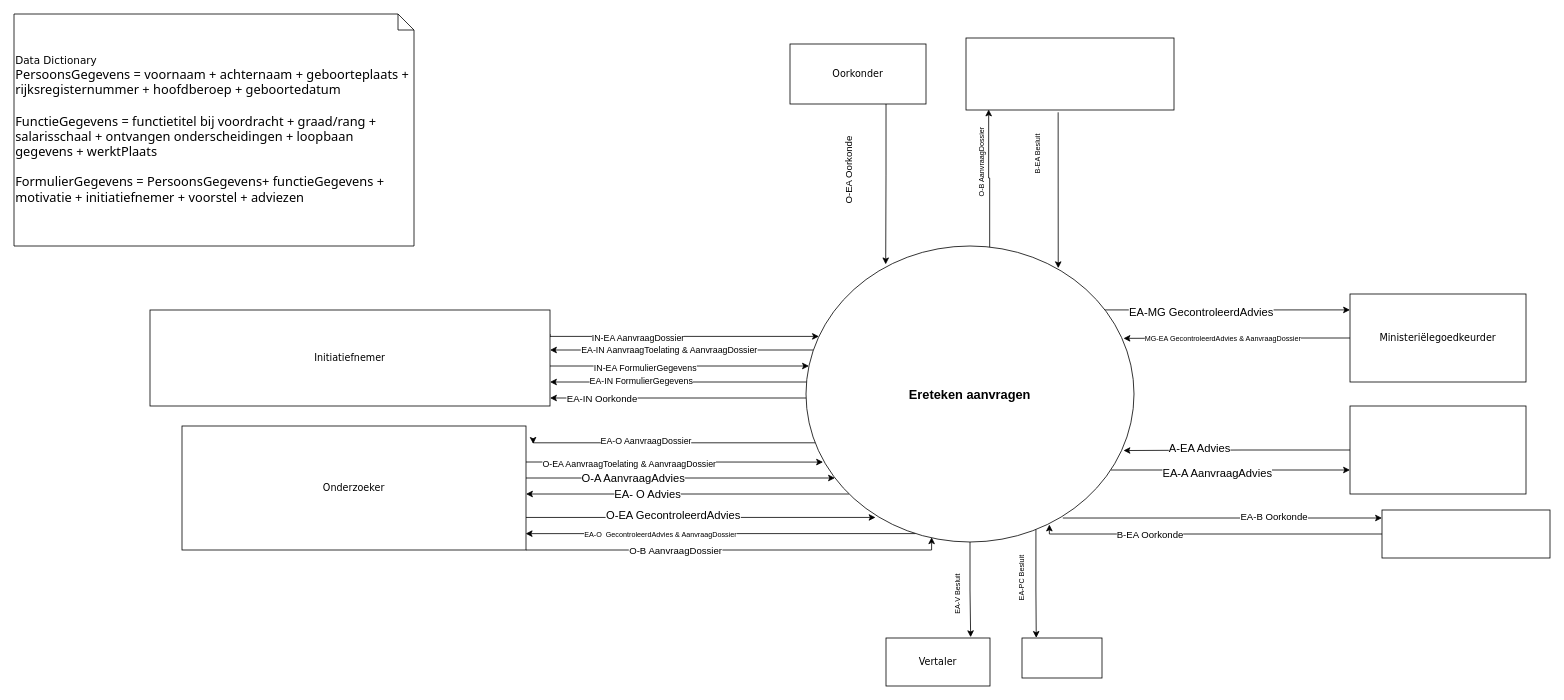
This 1564x700 diagram has some shape labels left out. Each missing label, with the box of its shape:
Adviseur: (1349, 405, 1526, 494)
Besluitnemer: (965, 37, 1174, 110)
Bestuur: (1381, 509, 1550, 558)
Publiceur: (1021, 637, 1102, 678)
